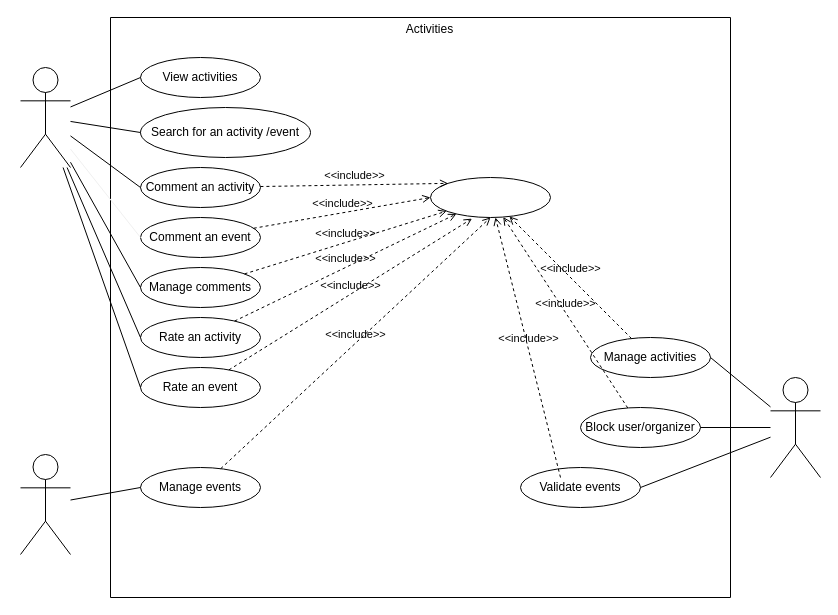
This 838x615 diagram has some shape labels left out. The shapes that lost their labels are listed below. From the top down, each one's box as (x1, y1, x2, y2) in pixels, then its label:
(20, 66, 70, 168): User
(430, 176, 550, 218): Authenticate
(770, 376, 820, 478): Admin
(20, 454, 70, 554): Organizer
